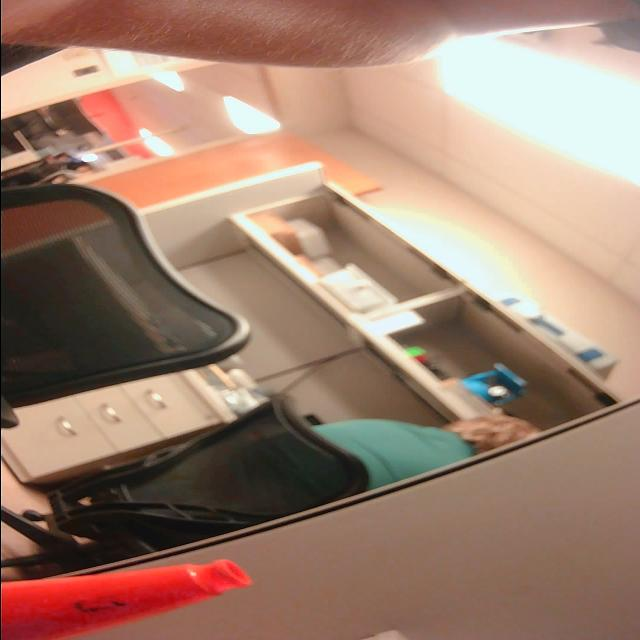traffic cone: (1, 557, 261, 640)
